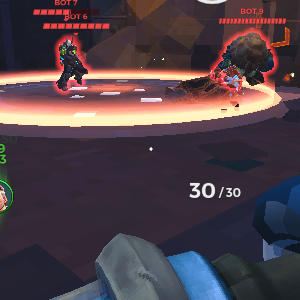model: (221, 27, 274, 91), (52, 33, 86, 94)
